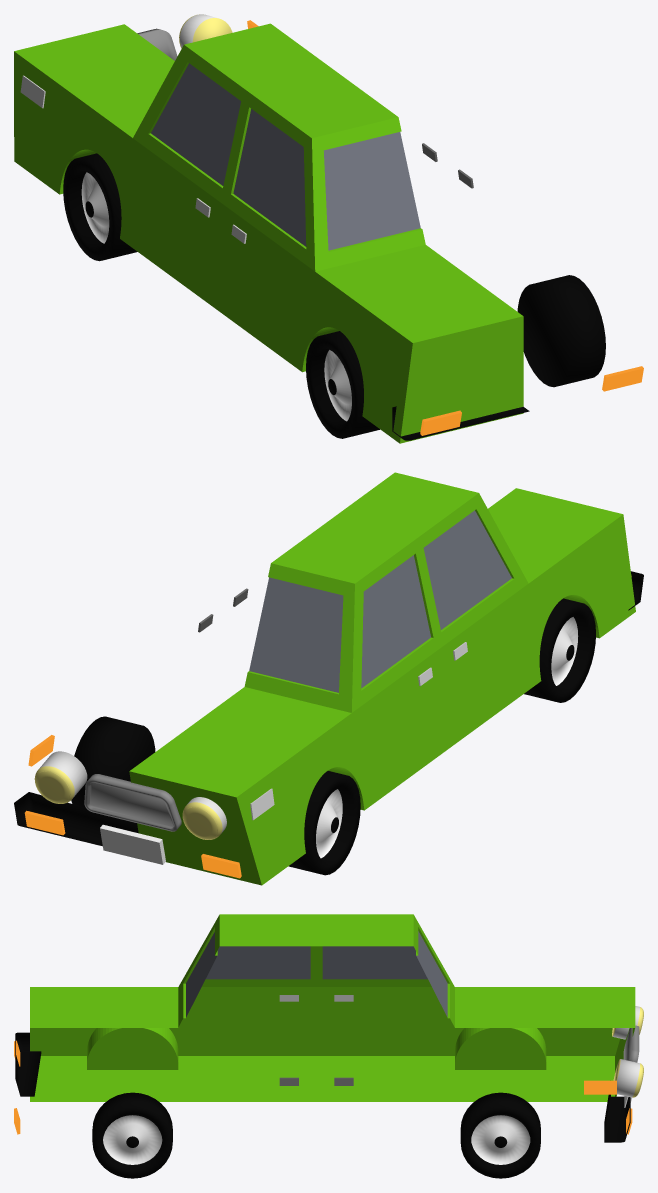
The model's file is car.glb.
The picture shows the model from 3 angles, top to bottom: view 1: azimuth 30°, elevation 25°; view 2: azimuth 150°, elevation 25°; view 3: azimuth 270°, elevation 25°; orthographic projection. The views are drawn at different scales.
Parts seen in each view (by area): view 1: Cube, Cylinder.003, Cylinder, Cylinder.001, Cylinder.004, Cube.004, Cube.009, Cube.010, Cube.002; view 2: Cube, Cylinder.001, Cylinder, Cylinder.002, Cube.002, Cube.001, Cylinder.004, Cube.003, Cylinder.005, Cube.005, Cube.006; view 3: Cube, Cylinder.002, Cylinder.003, Cube.004, Cube.001, Cylinder.004, Cube.007, Cube.002.
Boxes of the visible parts, bbox=[...] form: Cube: bbox=[14, 23, 523, 443]; Cylinder.003: bbox=[517, 275, 605, 387]; Cylinder: bbox=[63, 153, 137, 261]; Cylinder.001: bbox=[306, 331, 379, 438]; Cylinder.004: bbox=[179, 14, 232, 48]; Cube.004: bbox=[392, 406, 529, 440]; Cube.009: bbox=[420, 410, 461, 435]; Cube.010: bbox=[602, 366, 643, 391]; Cube.002: bbox=[137, 28, 177, 60]; Cube: bbox=[129, 472, 635, 885]; Cylinder.001: bbox=[524, 598, 595, 702]; Cylinder: bbox=[288, 771, 360, 875]; Cylinder.002: bbox=[71, 716, 155, 807]; Cube.002: bbox=[84, 774, 181, 831]; Cube.001: bbox=[14, 792, 138, 846]; Cylinder.004: bbox=[34, 751, 87, 803]; Cube.003: bbox=[100, 824, 165, 864]; Cylinder.005: bbox=[182, 797, 226, 839]; Cube.005: bbox=[24, 810, 65, 835]; Cube.006: bbox=[201, 854, 241, 878]; Cube: bbox=[30, 914, 635, 1101]; Cylinder.002: bbox=[460, 1092, 540, 1178]; Cylinder.003: bbox=[92, 1092, 172, 1178]; Cube.004: bbox=[15, 1032, 41, 1096]; Cube.001: bbox=[604, 1094, 630, 1142]; Cylinder.004: bbox=[613, 1059, 643, 1097]; Cube.007: bbox=[584, 1080, 616, 1094]; Cube.002: bbox=[623, 1025, 639, 1062].
Size of the model in its own units: 3.78 by 3.58 by 10.97.
